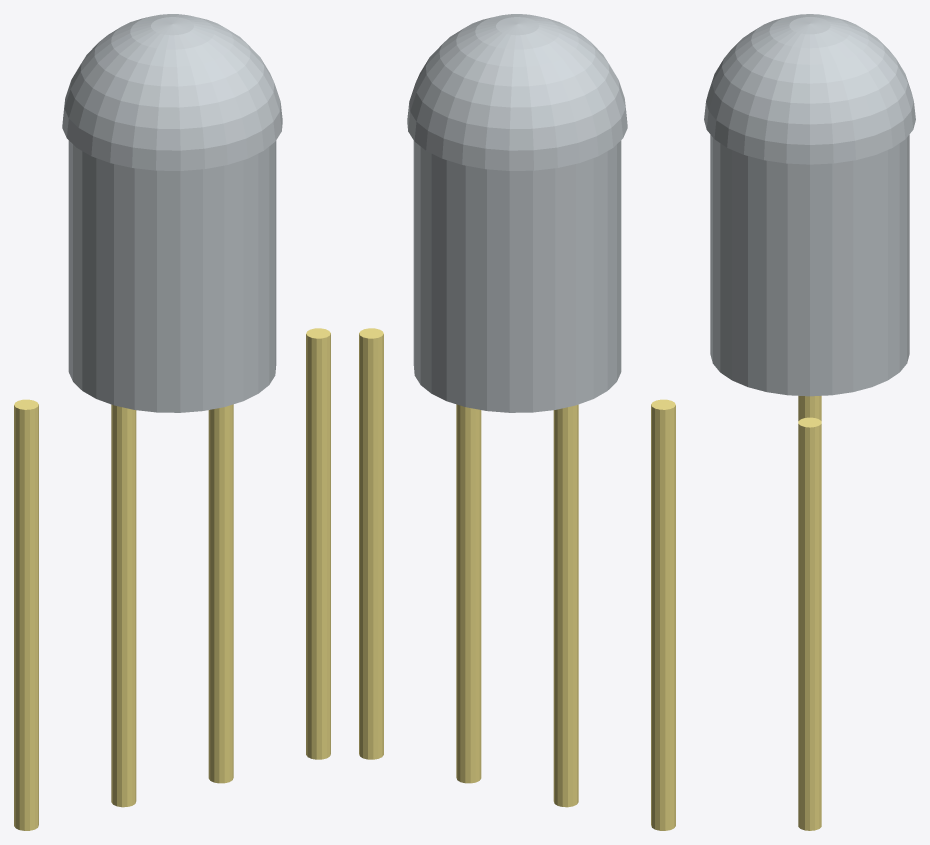
Rendered from rgb-led-common-cathode.glb.
3 views of the same model, side by side, from view 1: azimuth 30°, elevation 25°; view 2: azimuth 150°, elevation 25°; view 3: azimuth 270°, elevation 25° (orthographic). The views are drawn at different scales.
Visible parts, largest first — view 1: rgb-led-common-cathode_mesh; view 2: rgb-led-common-cathode_mesh; view 3: rgb-led-common-cathode_mesh.
Part boxes in pixels (x1,y1,x2,y2): rgb-led-common-cathode_mesh: (14, 14, 330, 830); rgb-led-common-cathode_mesh: (359, 14, 675, 830); rgb-led-common-cathode_mesh: (704, 14, 915, 830).
Size of the model in its own units: 8.18 by 19.1 by 5.
